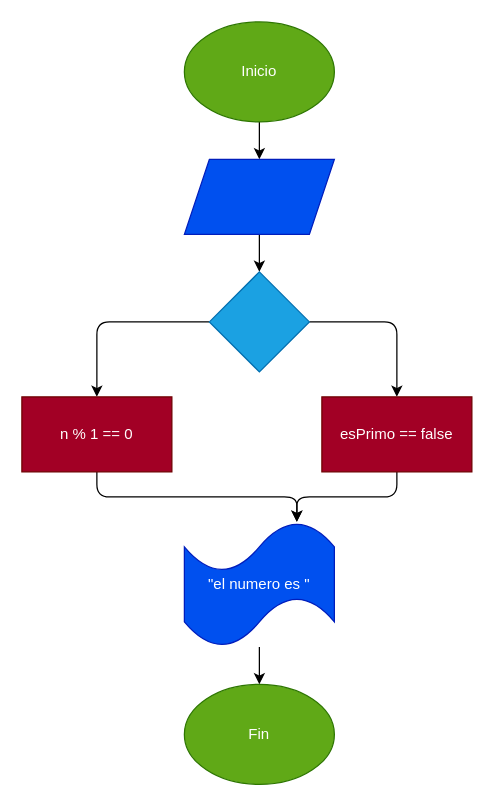
The diagram is 494 pixels wide and 806 high, and some of its shapes have lost their labels. Each missing label, with the box of its shape:
n <= 1: (208, 271, 309, 372)
n esPrimo == true: (183, 158, 334, 234)
